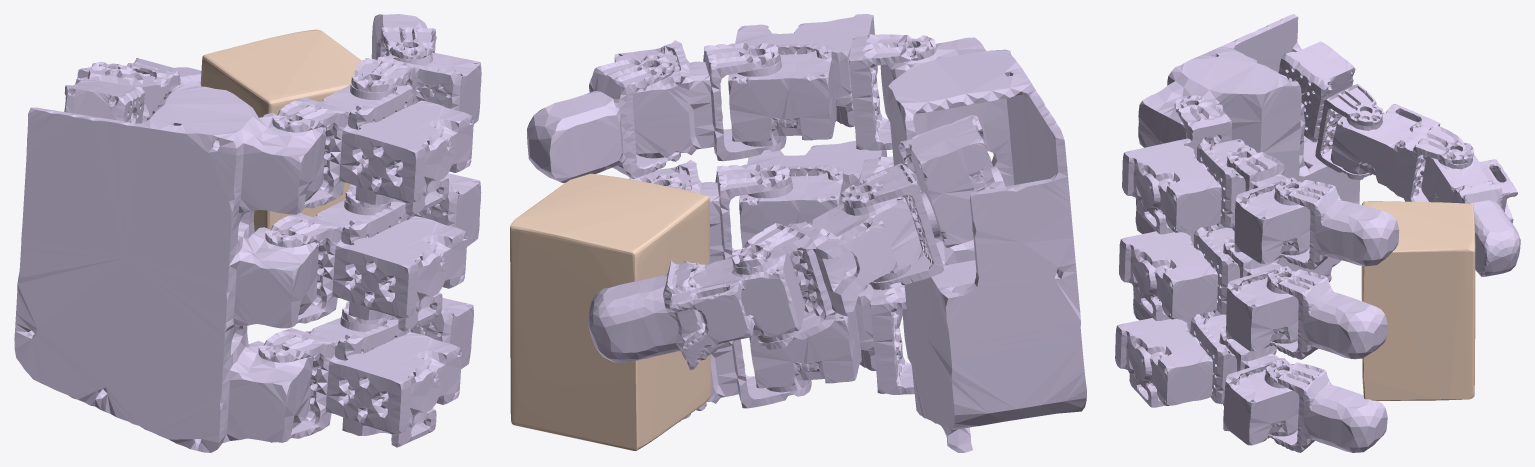
3 views of the same model, side by side, from view 1: azimuth 30°, elevation 25°; view 2: azimuth 150°, elevation 25°; view 3: azimuth 270°, elevation 25° (orthographic). The views are drawn at different scales.
Parts seen in each view (by area): view 1: LEAP_hand, world; view 2: LEAP_hand, world; view 3: LEAP_hand, world.
Boxes of the visible parts, x1,y1,x2,y2 form: LEAP_hand: (14, 14, 481, 452); world: (200, 29, 361, 231); LEAP_hand: (527, 14, 1086, 452); world: (510, 173, 710, 450); LEAP_hand: (1115, 14, 1520, 452); world: (1361, 201, 1475, 400).
Bounding box in the file's own units: 0.1977 × 0.1419 × 0.1844.
